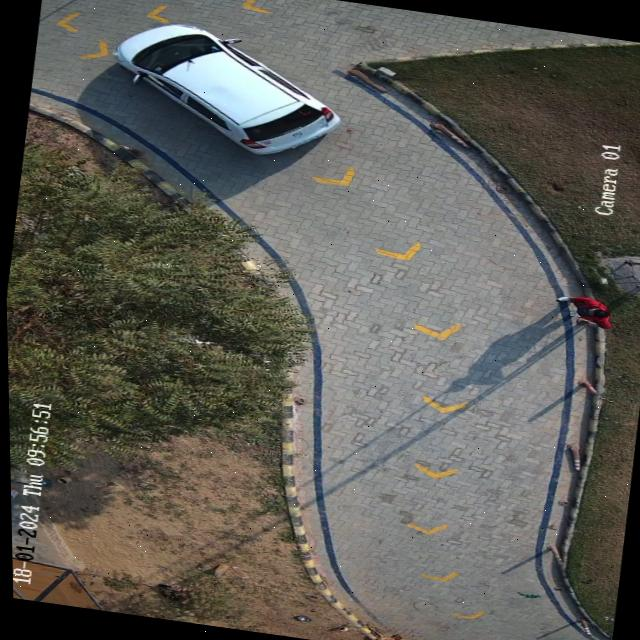car: (116, 22, 340, 154)
